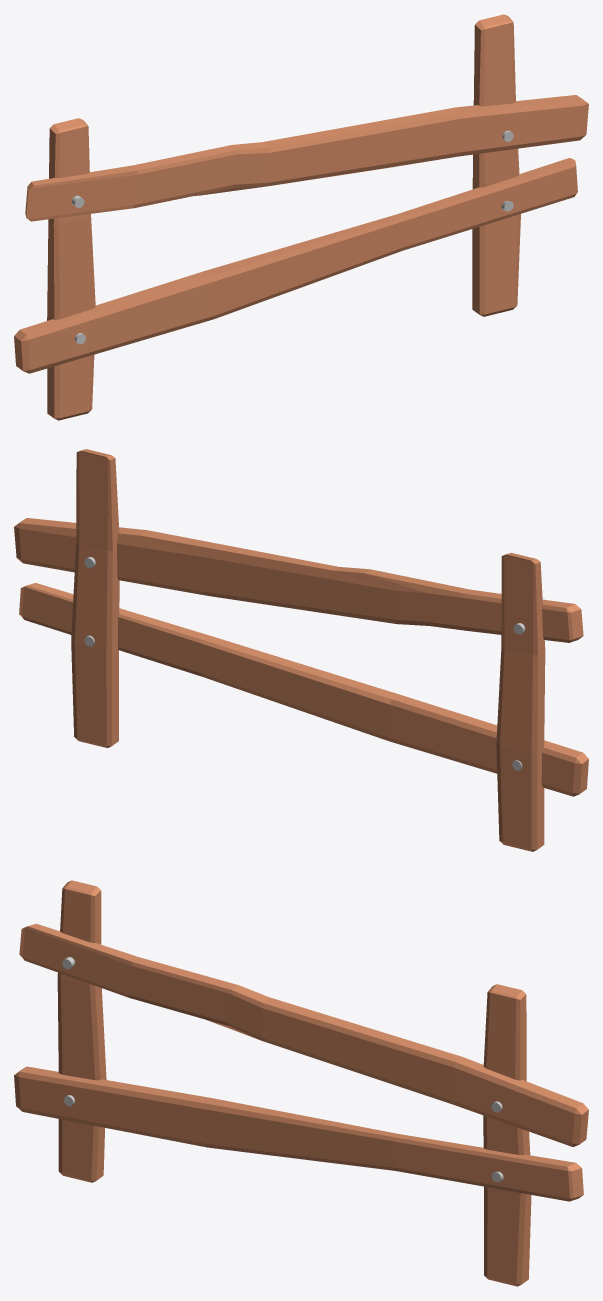
File: Blender_fence_v2.fbx
The picture shows the model from 3 angles, top to bottom: view 1: azimuth 30°, elevation 25°; view 2: azimuth 150°, elevation 25°; view 3: azimuth 330°, elevation 25°; orthographic projection.
Parts seen in each view (by area): view 1: Fence.001; view 2: Fence.001; view 3: Fence.001.
Boxes of the visible parts, box(x1,y1,x2,y2) form: Fence.001: box(14, 14, 588, 420); Fence.001: box(14, 449, 588, 851); Fence.001: box(14, 880, 588, 1286).
Size of the model in its own units: 462 by 226 by 24.76.
